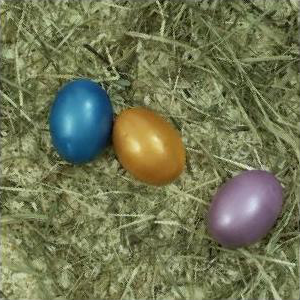egg: (207, 170, 283, 247), (114, 107, 186, 186), (49, 79, 112, 164)
